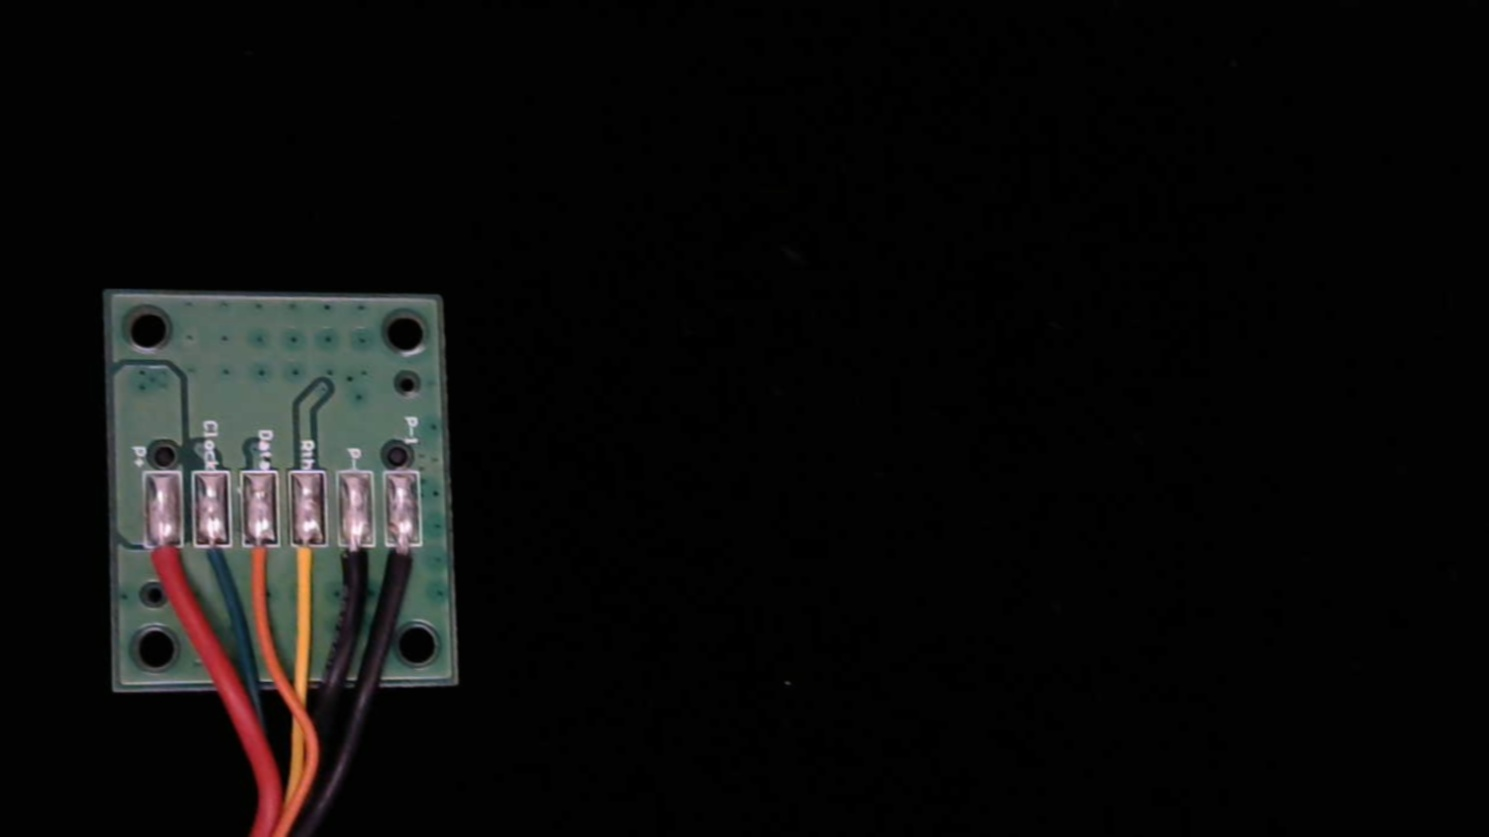Black: (336, 527, 376, 601)
Black1: (386, 524, 427, 603)
Green: (193, 524, 238, 607)
Orange: (240, 524, 283, 609)
Red: (143, 526, 187, 609)
Yellow: (287, 528, 331, 616)
